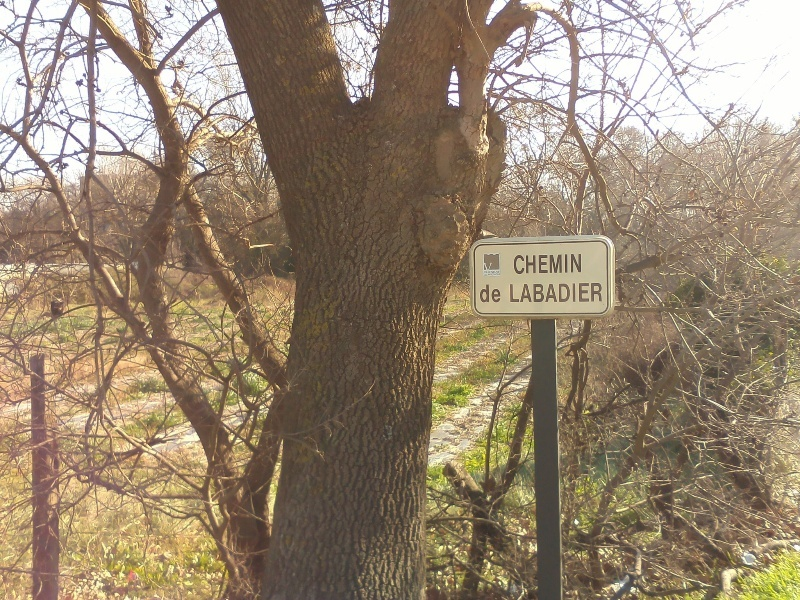text: (513, 281, 528, 304), (529, 281, 544, 304), (545, 281, 560, 304), (561, 281, 576, 304), (577, 281, 592, 304), (513, 254, 528, 276), (529, 254, 544, 276), (545, 254, 560, 276), (561, 254, 576, 276), (481, 283, 496, 304), (593, 281, 604, 304), (577, 254, 584, 276), (482, 261, 496, 272), (497, 283, 501, 304), (509, 281, 512, 304), (484, 271, 496, 274), (484, 273, 496, 276), (497, 271, 501, 274), (497, 273, 501, 276)
